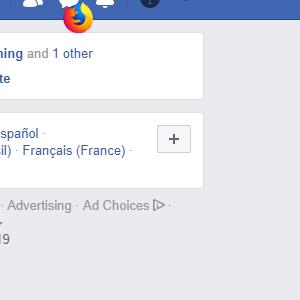firefox: (64, 2, 94, 33)
